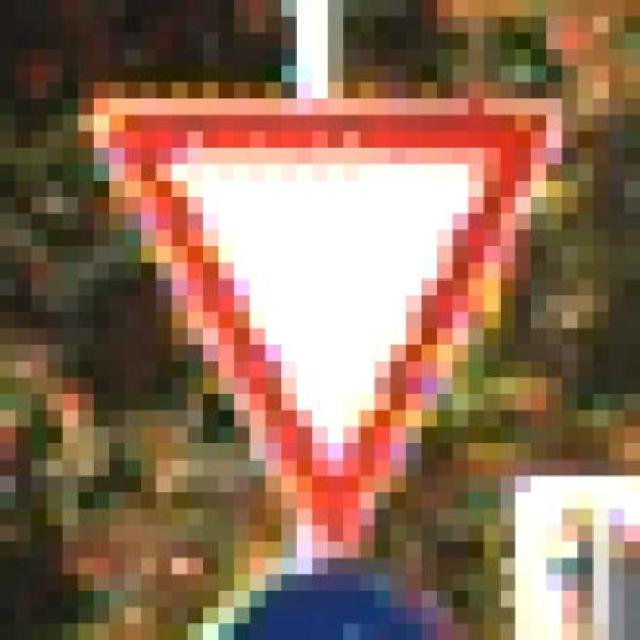Give Way: (62, 82, 562, 590)
